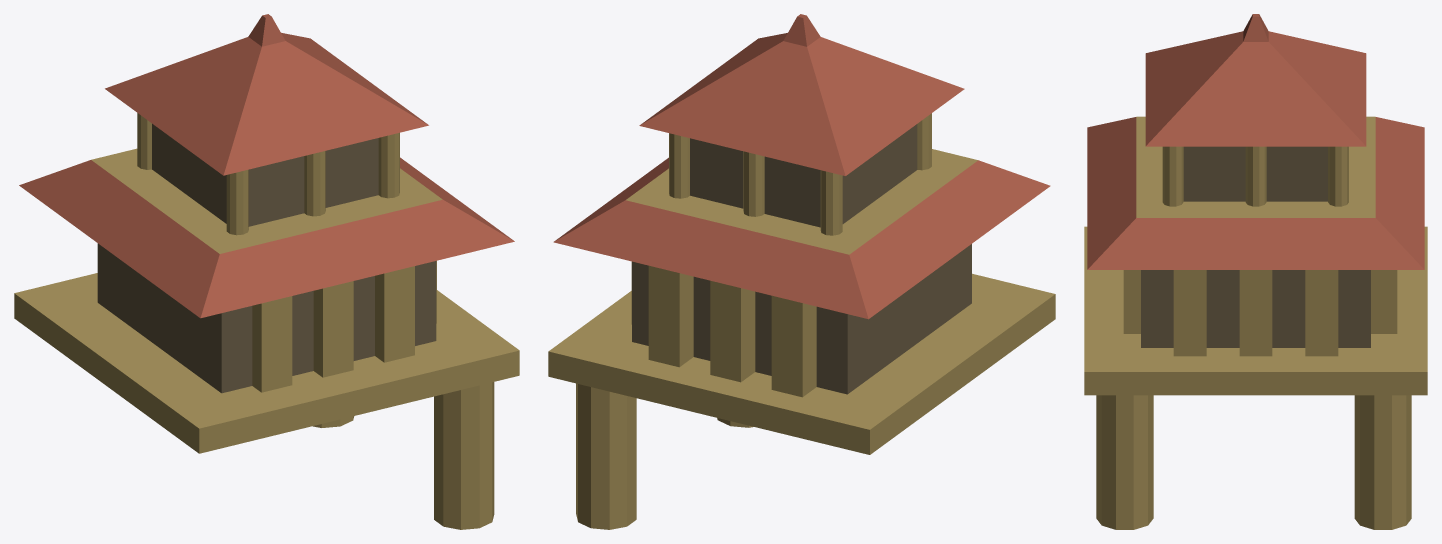
File: house1.fbx
3 views of the same model, side by side, from view 1: azimuth 30°, elevation 25°; view 2: azimuth 150°, elevation 25°; view 3: azimuth 270°, elevation 25° (orthographic). The views are drawn at different scales.
Parts seen in each view (by area): view 1: Cube; view 2: Cube; view 3: Cube.
Boxes of the visible parts, left/top/right/bottom form: Cube: left=14, top=14, right=519, bottom=529; Cube: left=548, top=14, right=1055, bottom=529; Cube: left=1084, top=14, right=1427, bottom=529.
Size of the model in its own units: 1200 by 1718 by 1200.
